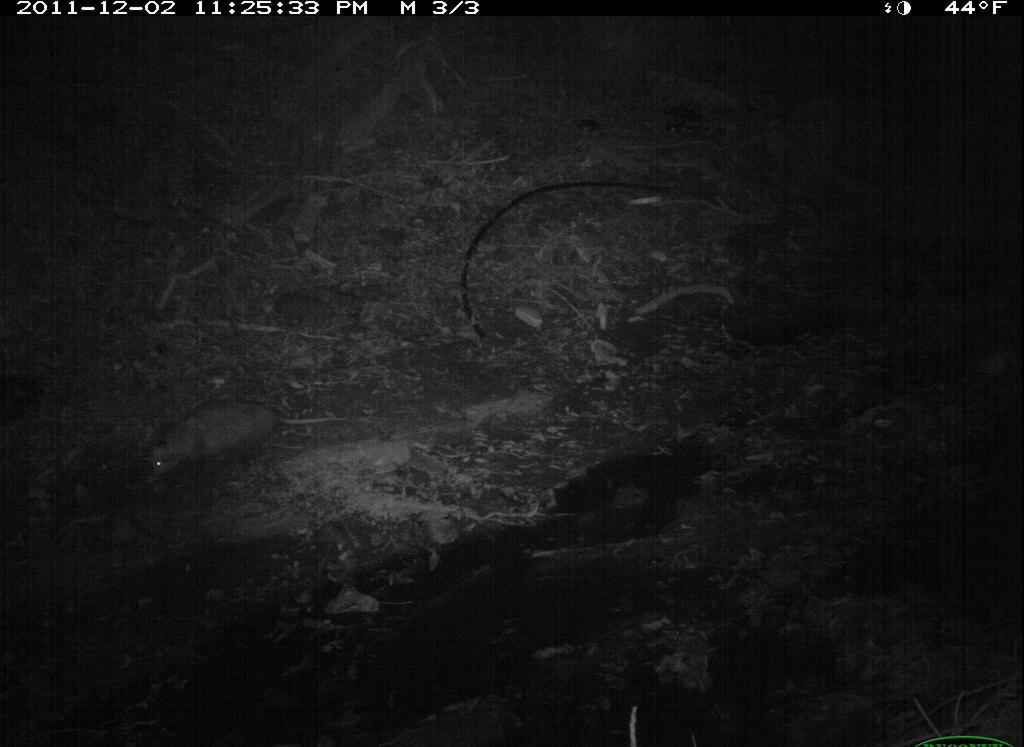opossum: (127, 387, 370, 507)
